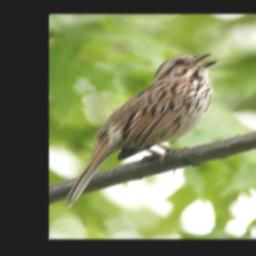Sparrow: (66, 50, 221, 208)
